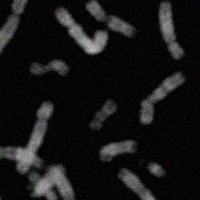chromosome: (16, 102, 52, 174), (56, 7, 107, 54), (139, 73, 184, 125), (0, 0, 32, 67), (86, 0, 135, 37), (158, 1, 183, 58), (113, 169, 156, 200), (31, 164, 64, 199), (0, 143, 42, 168), (50, 167, 79, 200), (90, 100, 118, 132), (155, 181, 200, 200), (101, 139, 137, 162), (26, 173, 56, 200), (31, 58, 69, 78), (148, 158, 169, 181), (0, 143, 3, 200), (0, 0, 6, 25)
